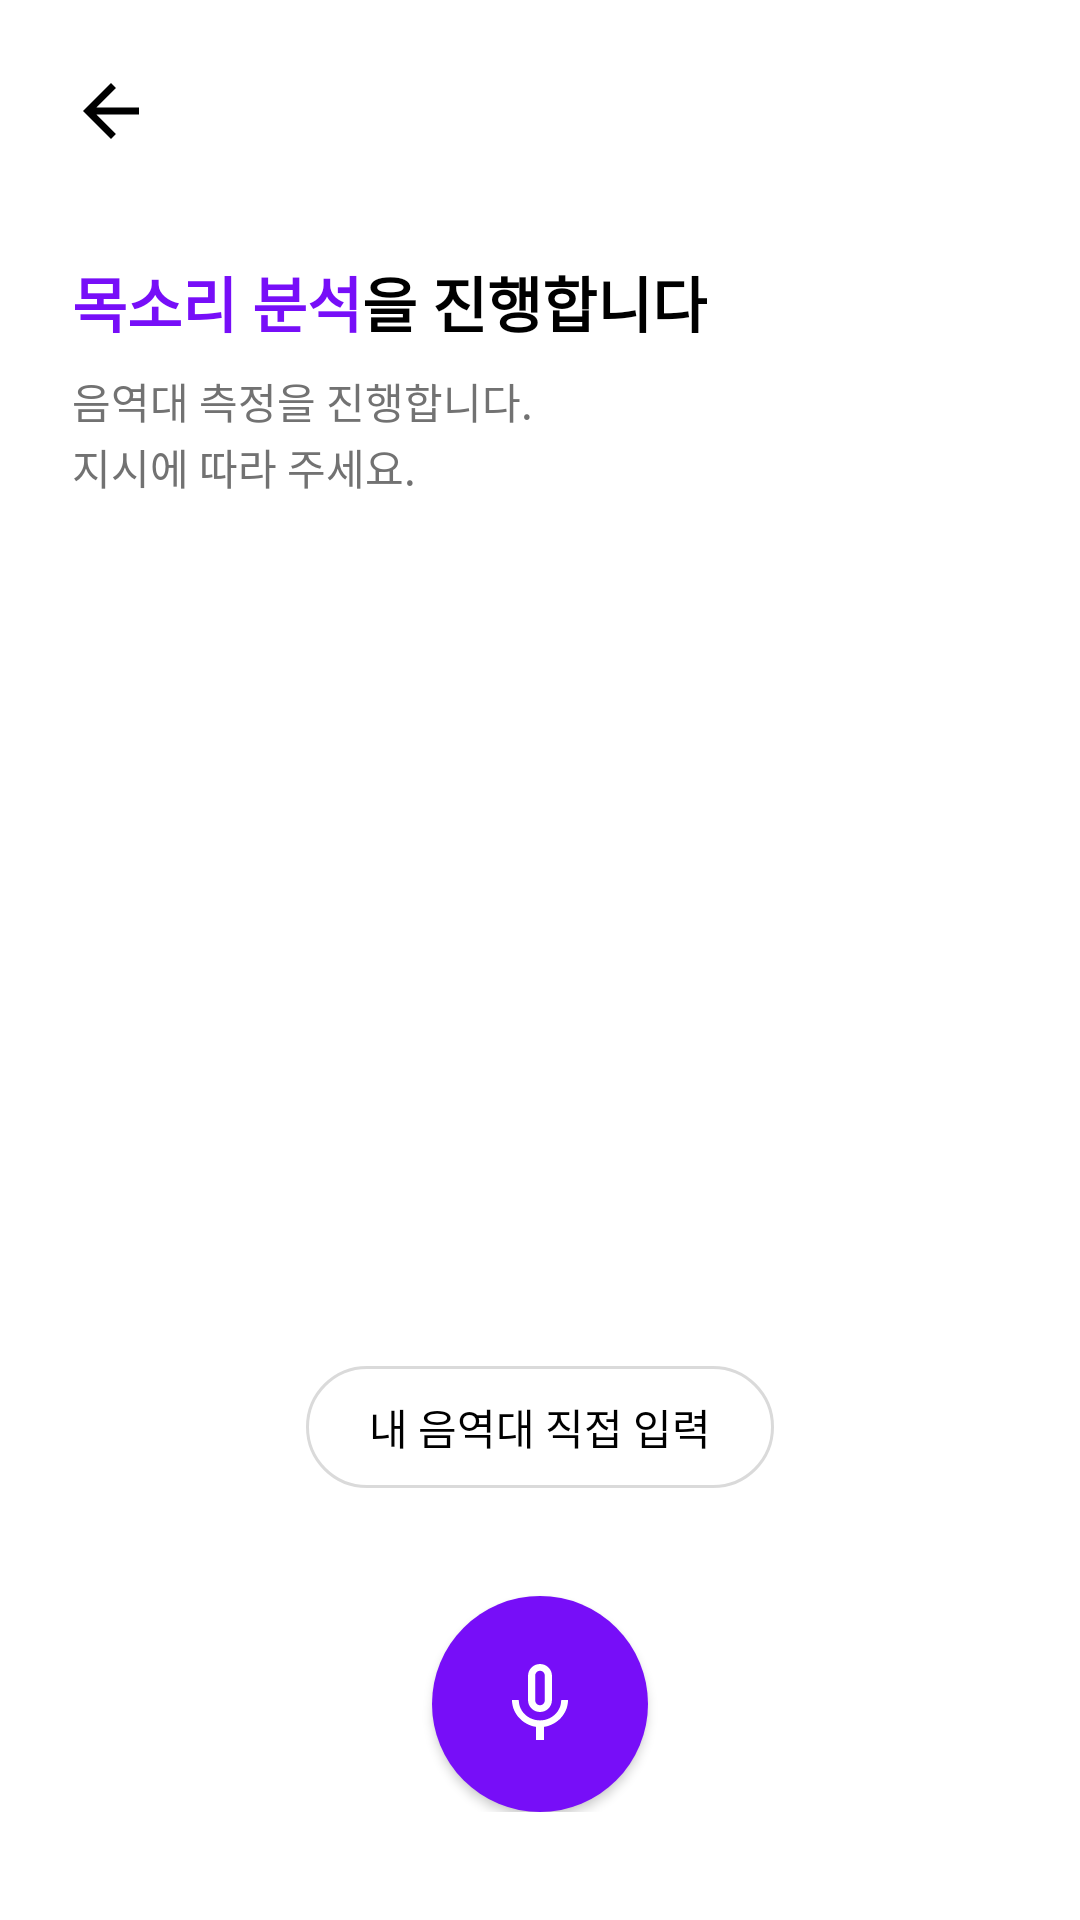

Where icons sit on this 1080 × 1920 app screen, as (x1, y1, x2, y2):
mic: (432, 1596, 648, 1812)
